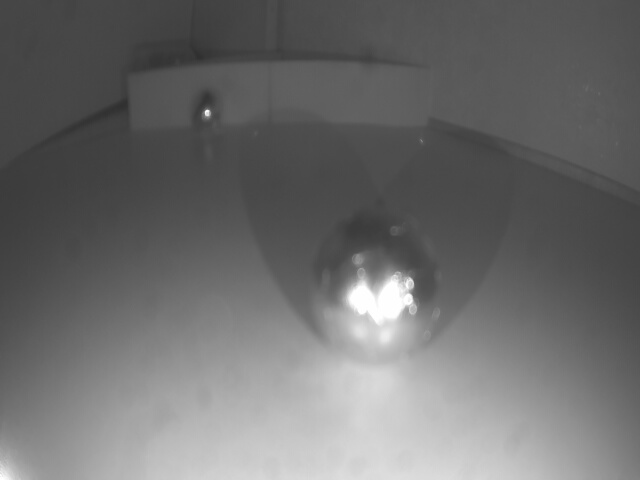Live: (308, 215, 441, 364), (192, 94, 222, 138)
Point: (127, 67, 429, 130)
